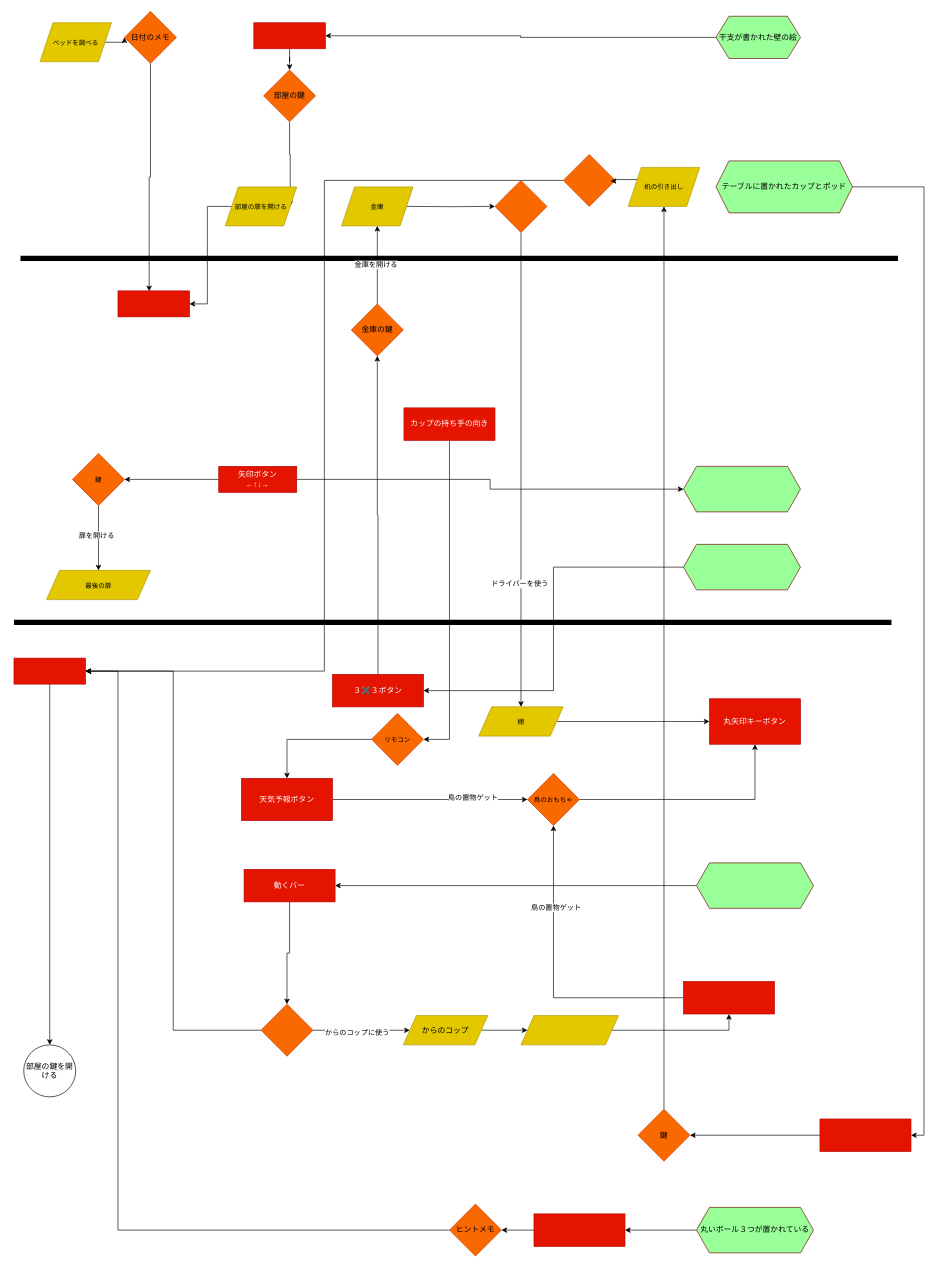
This 941x1268 diagram has some shape labels left out. The shapes that lost their labels are listed below. From the top down, each one's centre as x and y in pixels, then its label:
At pixel 289 35: "干支ボタン".
At pixel 589 180: "ヒントノート".
At pixel 520 206: "ドライバー".
At pixel 153 303: "日付を合わせる".
At pixel 741 489: "矢印の方向を向いた動物の絵".
At pixel 741 567: "3✖️３の形の箱 石が入っている".
At pixel 49 670: "❤️🔼●▪️ボタン".
At pixel 754 885: "複数ワインボトルの配置".
At pixel 728 997: "ボタンを押すたびに色が変わる3列ボタン".
At pixel 286 1030: "ワイン".
At pixel 569 1030: "コップに水が注がれる".
At pixel 865 1134: "カップの位置を表すボタン".
At pixel 579 1229: "大きさが変化するボタン".
